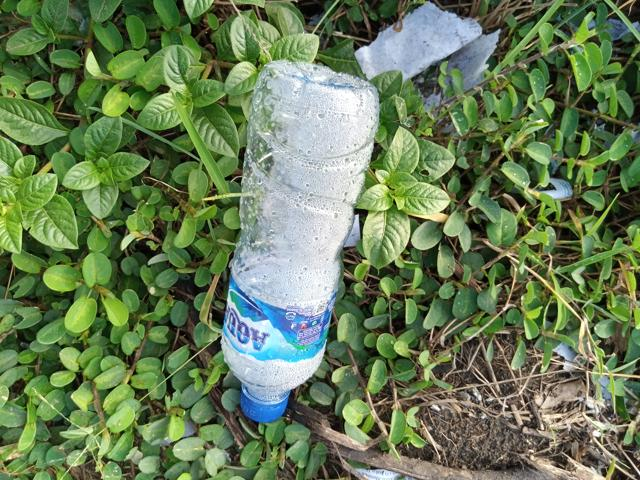botol_kaca: (214, 52, 384, 430)
